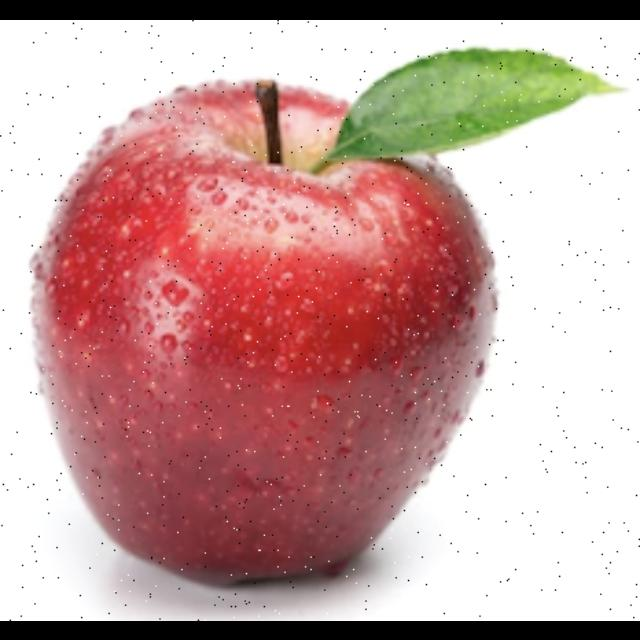Apel Segar: (21, 38, 506, 600)
